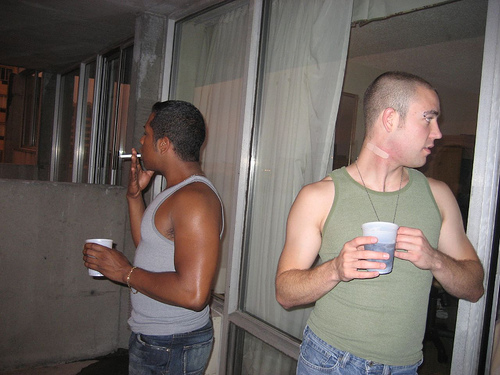without_mask: (369, 87, 440, 169), (137, 111, 189, 177)
